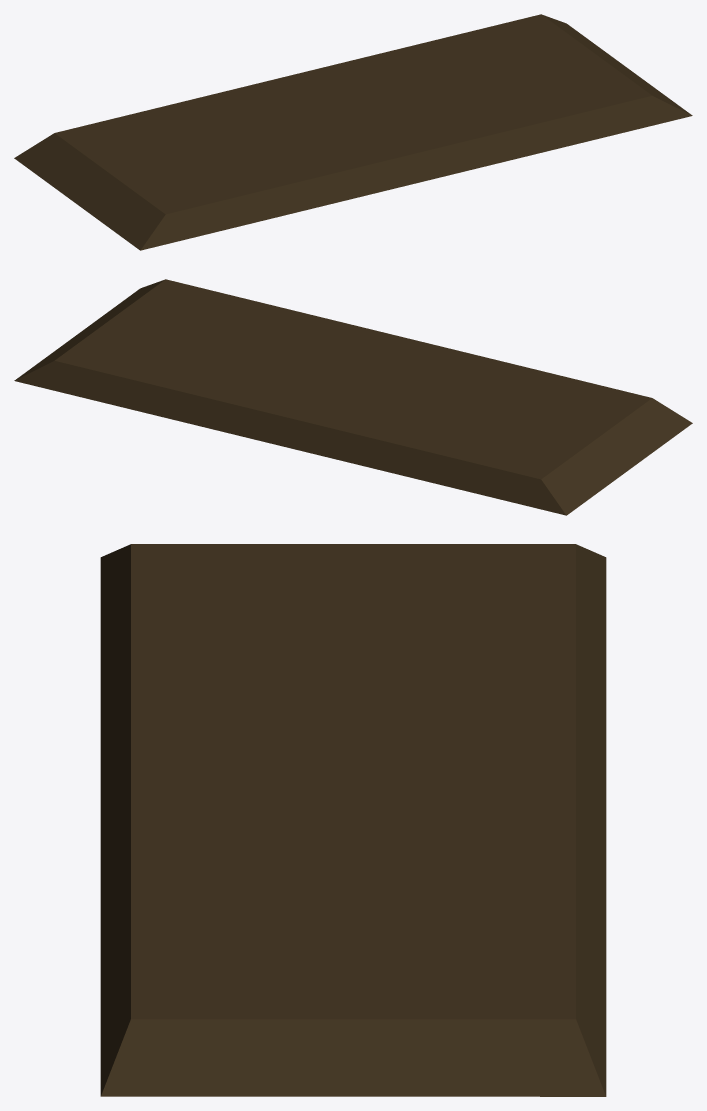
Rendered from Itr_Wardrobe1_Base_02.FBX.
The picture shows the model from 3 angles, top to bottom: view 1: azimuth 30°, elevation 25°; view 2: azimuth 150°, elevation 25°; view 3: azimuth 270°, elevation 25°; orthographic projection. The views are drawn at different scales.
Parts seen in each view (by area): view 1: Itr_Wardrobe1_Base_02; view 2: Itr_Wardrobe1_Base_02; view 3: Itr_Wardrobe1_Base_02.
Boxes of the visible parts, left/top/right/bottom form: Itr_Wardrobe1_Base_02: left=14, top=14, right=692, bottom=250; Itr_Wardrobe1_Base_02: left=14, top=279, right=692, bottom=515; Itr_Wardrobe1_Base_02: left=100, top=544, right=606, bottom=1096.
Bounding box in the file's own units: 50.57 × 1.99 × 20.02.
